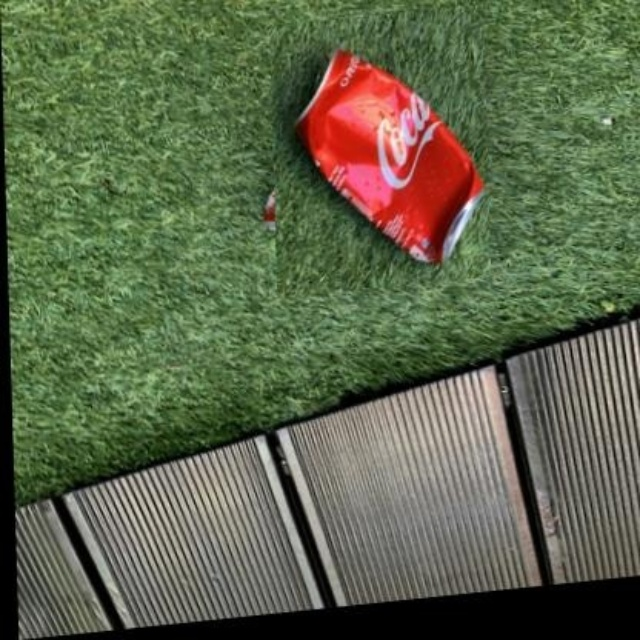trash: (297, 51, 482, 262)
